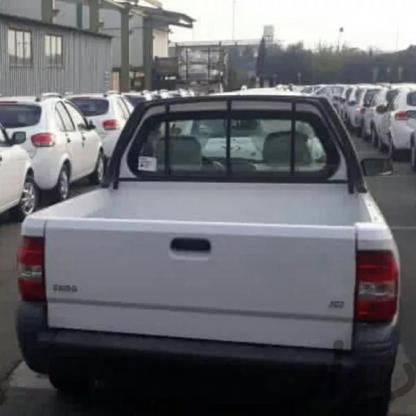Car: (15, 86, 416, 416), (0, 91, 114, 188), (56, 84, 150, 150), (0, 119, 41, 209), (389, 87, 416, 171), (358, 77, 386, 134), (334, 83, 368, 129)
